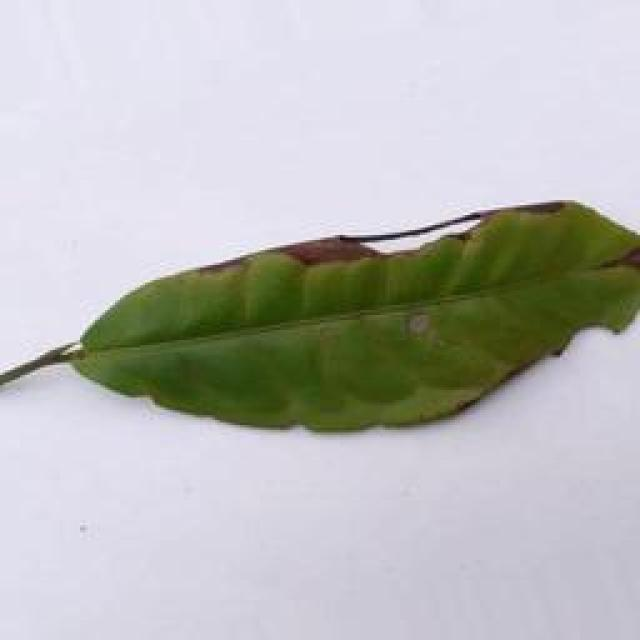Brown Blight: (0, 193, 640, 445)
